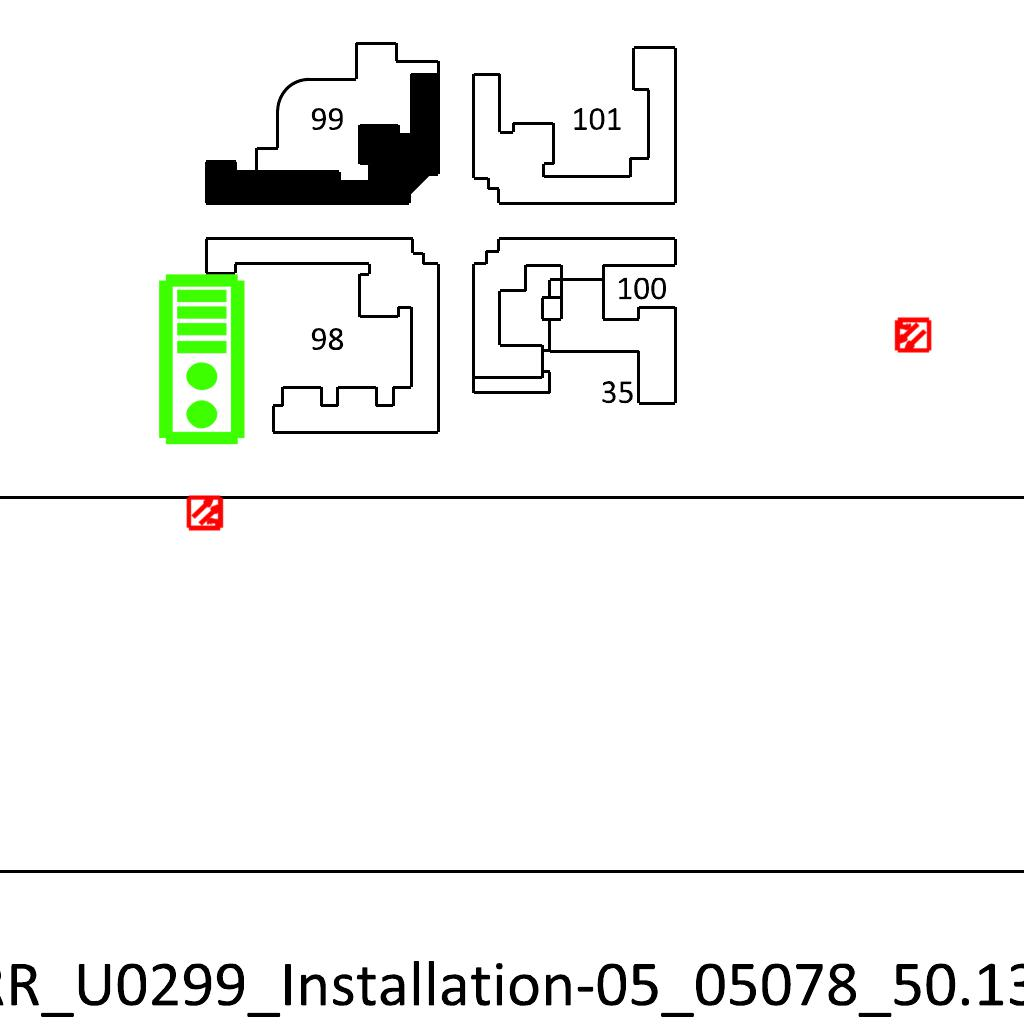Gegensprechanlage_mit_Video: (156, 272, 251, 448)
OT_Multisensormelder_(Kombination_RMO_WMD): (884, 307, 940, 363), (178, 485, 234, 541)
